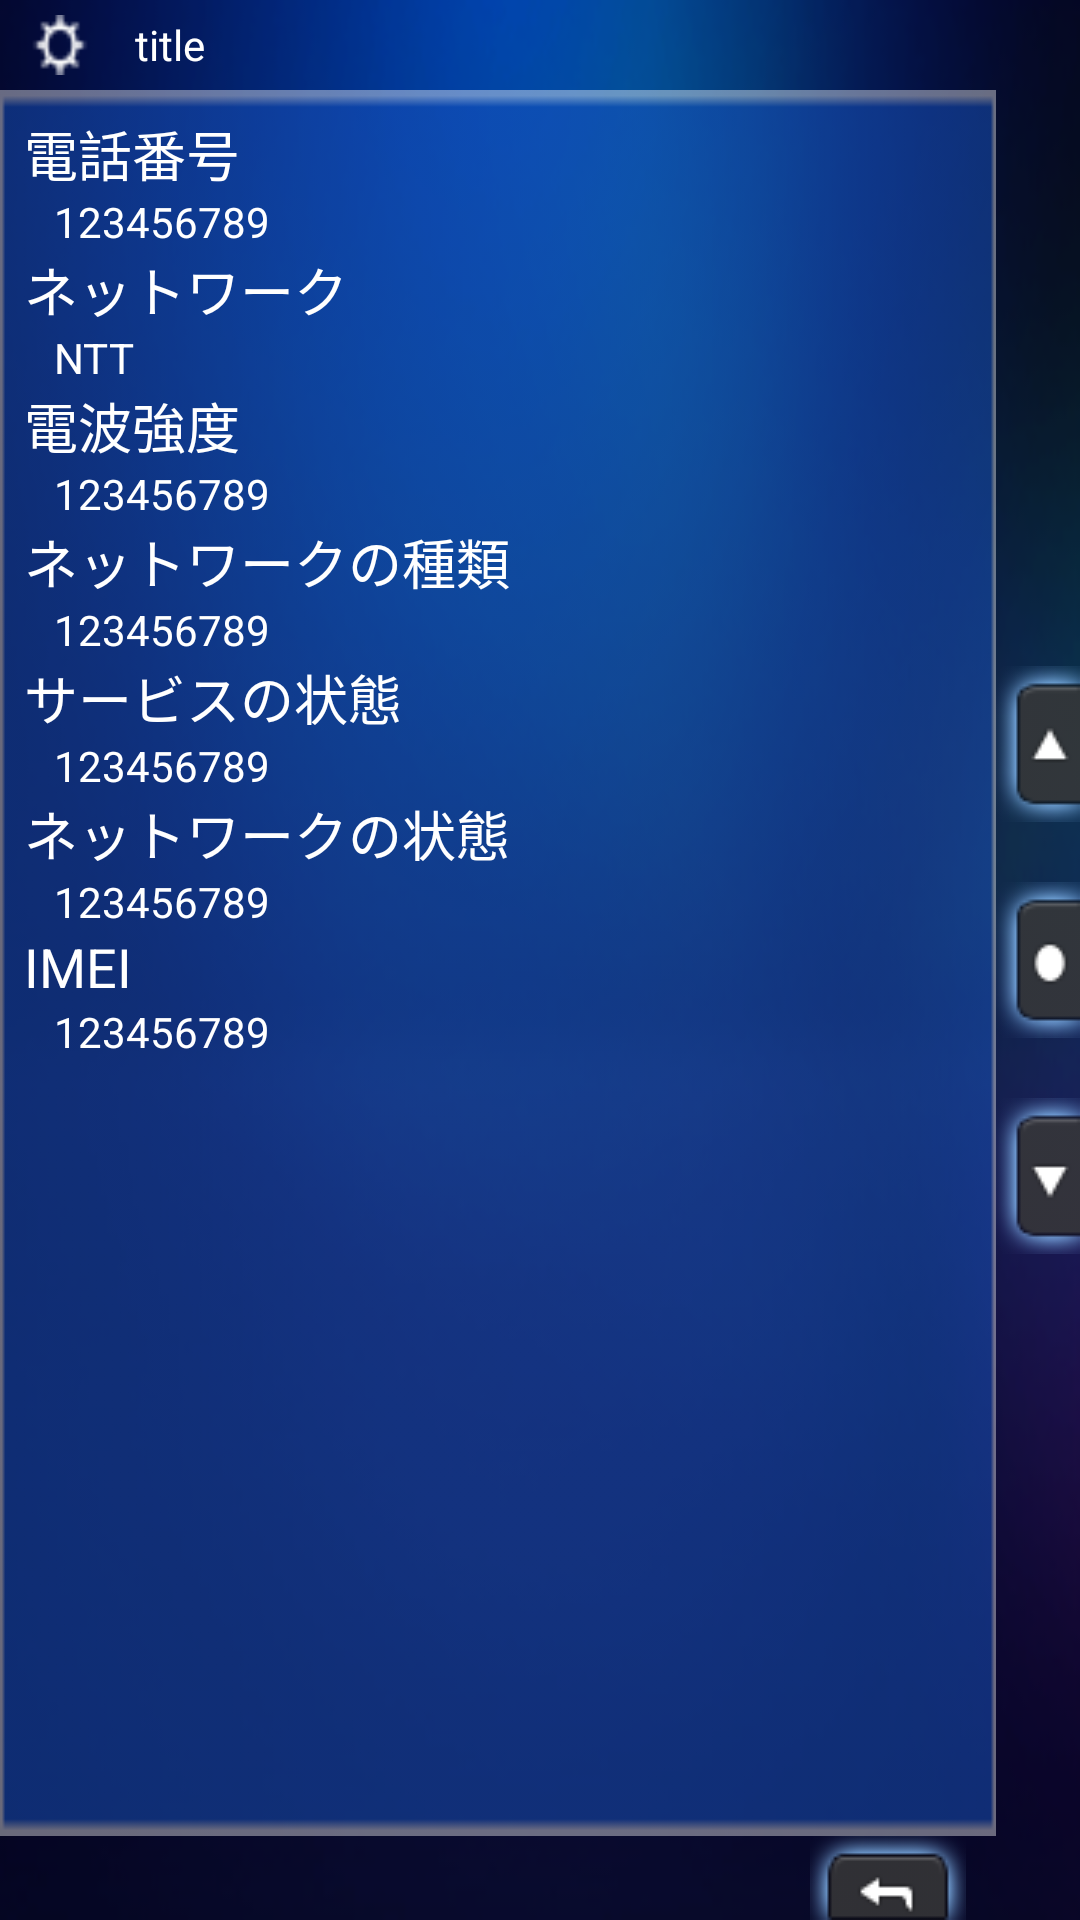

Named icons in this screenshot (1080px x 1920px) and their centers, (x,y):
sub setting: (60,45)
tag menu main back: (888,1878)
tag menu main enter: (1038,960)
tag menu main movedown: (1038,1176)
tag menu main moveup: (1038,744)
